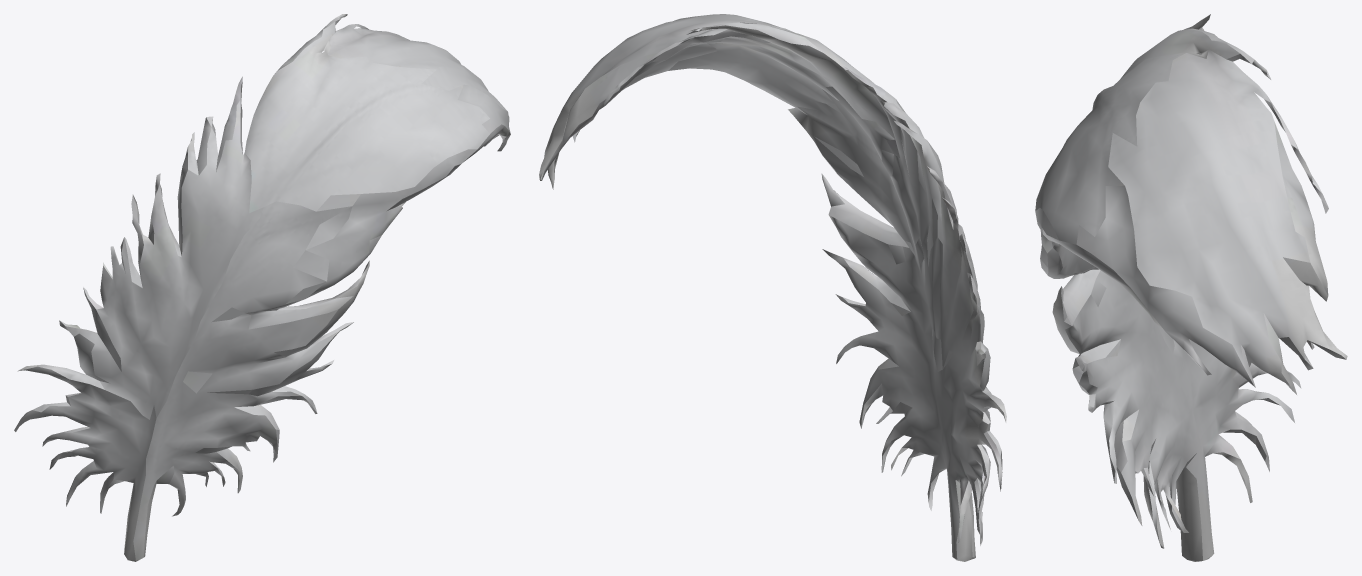
File: duck_feather.glb
3 renders of one model, left to right at view 1: azimuth 30°, elevation 25°; view 2: azimuth 150°, elevation 25°; view 3: azimuth 270°, elevation 25°, orthographic. The views are drawn at different scales.
Parts seen in each view (by area): view 1: duck_feather; view 2: duck_feather; view 3: duck_feather.
Boxes of the visible parts, x1,y1,x2,y2 form: duck_feather: (14,14,510,561); duck_feather: (539,14,1006,561); duck_feather: (1035,14,1347,561).
Size of the model in its own units: 1 by 0.9929 by 0.4317.
Materials: 1 (1 with a texture image).
